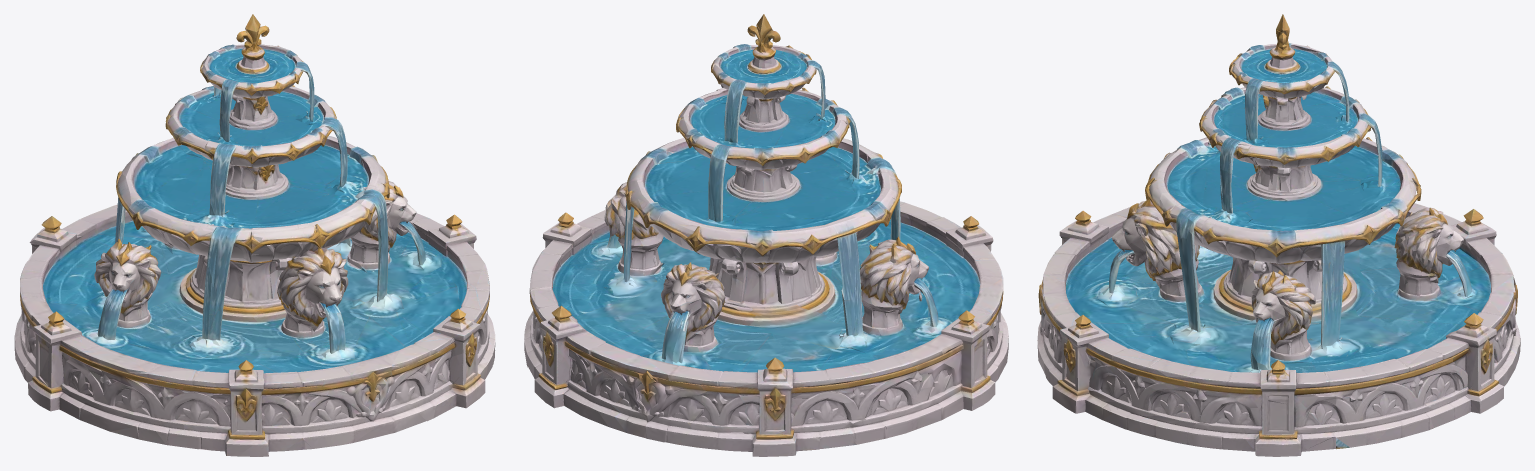
The model's file is town_fountain.glb.
The picture shows the model from 3 angles, left to right: view 1: azimuth 30°, elevation 25°; view 2: azimuth 150°, elevation 25°; view 3: azimuth 270°, elevation 25°; orthographic projection.
Visible parts, largest first — view 1: output_unwrapped; view 2: output_unwrapped; view 3: output_unwrapped.
Boxes of the visible parts, bbox=[...] form: output_unwrapped: bbox=[14, 14, 495, 456]; output_unwrapped: bbox=[524, 14, 1008, 456]; output_unwrapped: bbox=[1037, 14, 1520, 456].
Bounding box in the file's own units: 1.9 × 1.4 × 1.82.
1 material, 1 textured.
